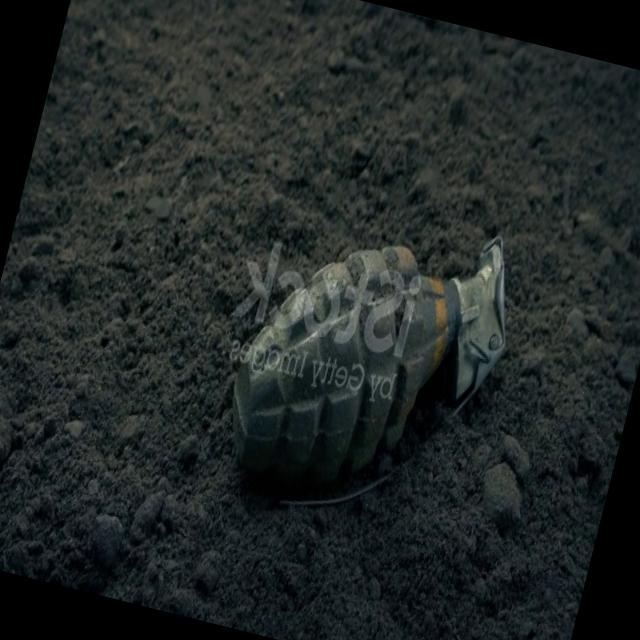grenade: (202, 180, 526, 554)
